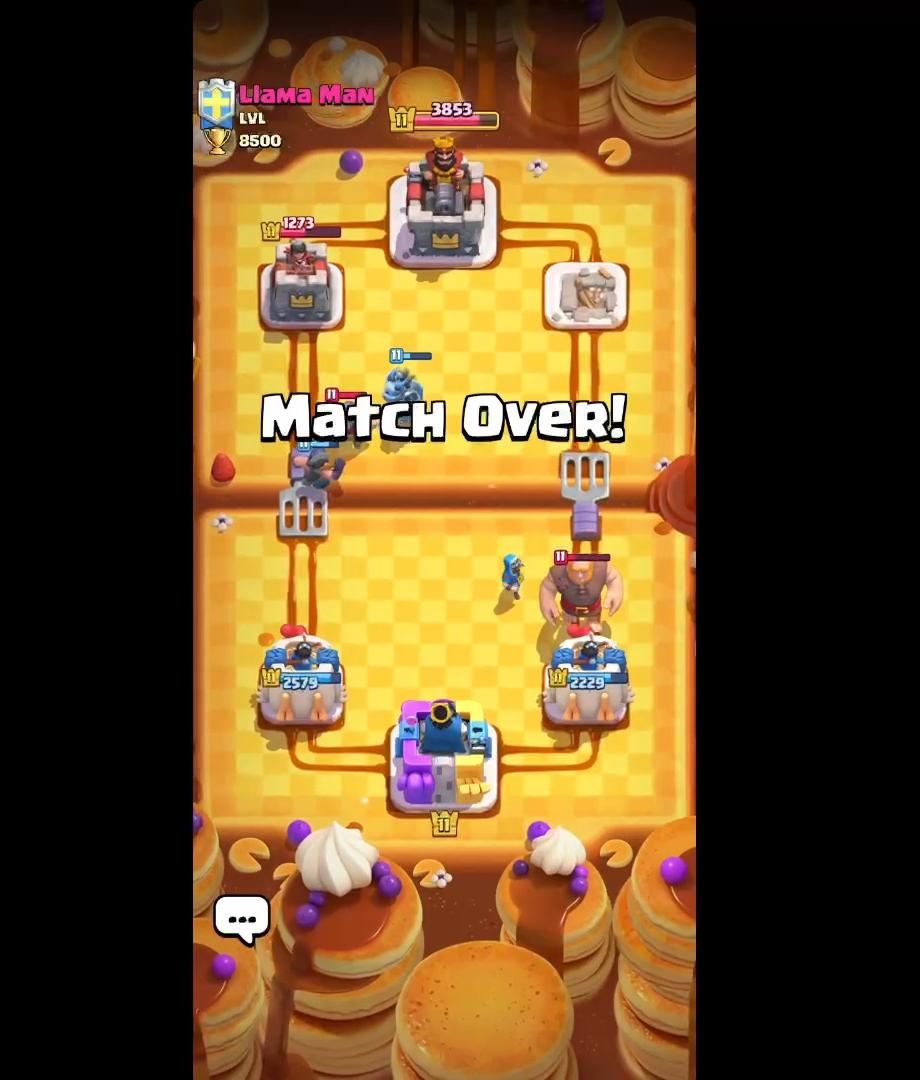Giant: (539, 545, 626, 630)
